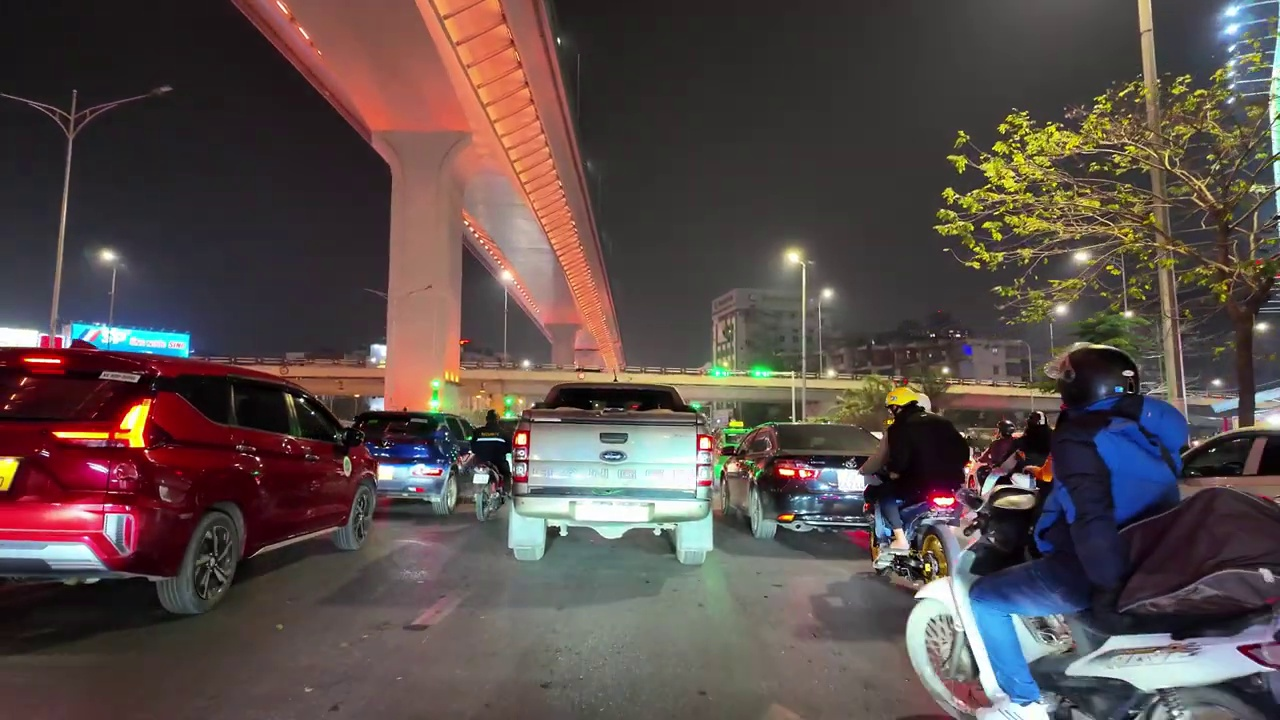acesa: (780, 245, 806, 273), (94, 244, 121, 269), (817, 284, 838, 308)
